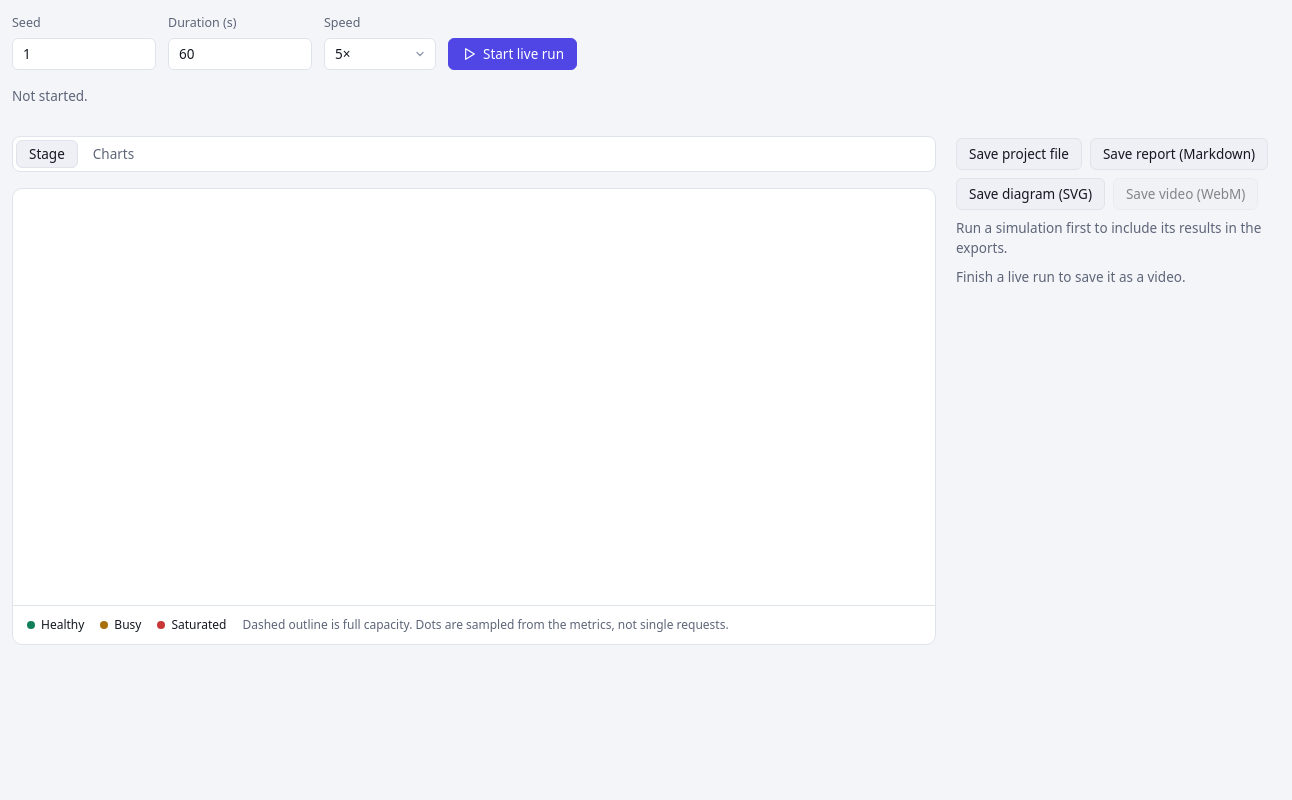
it: LivePanel › starts with the chosen options and charts incoming ticks
The image size is (1292, 800).
Click the button "Start live run": click(512, 54) 448,38 -> 577,70
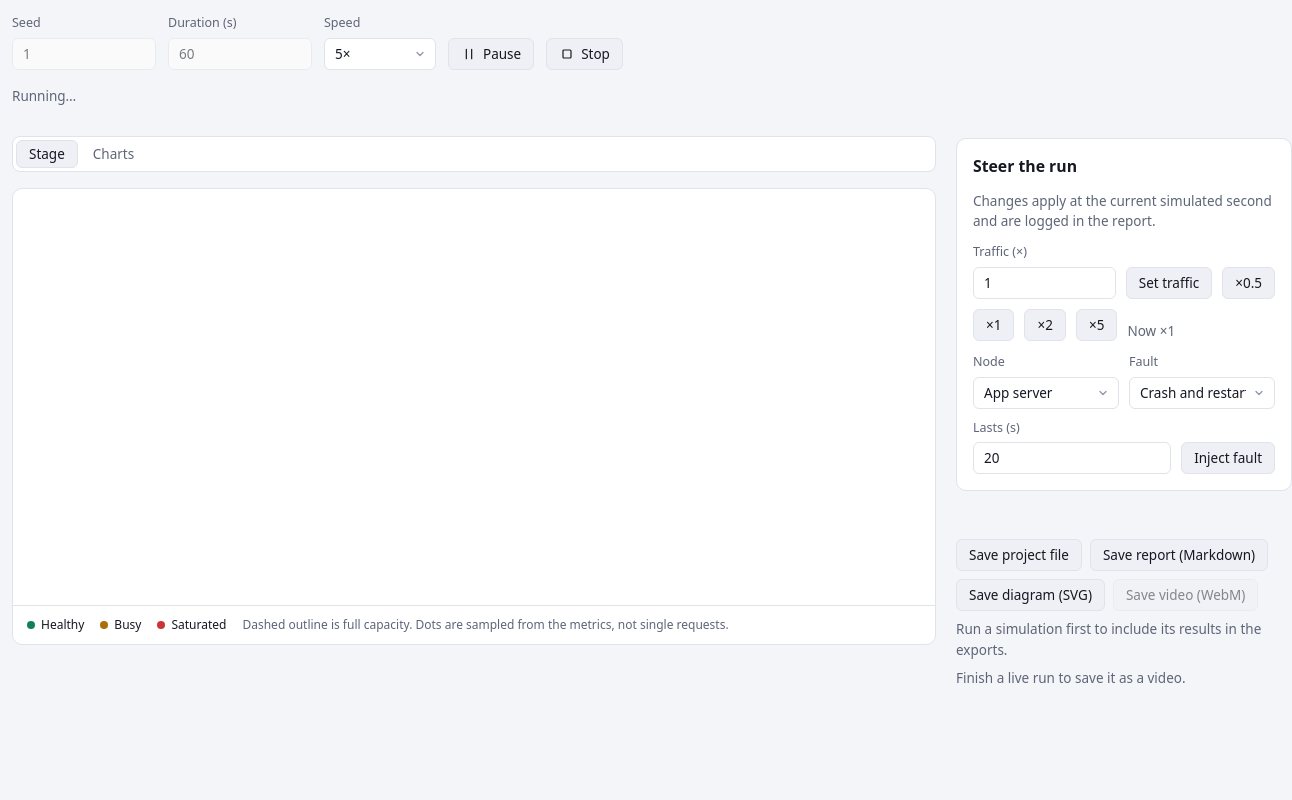
Click the button "Charts": click(114, 154) 80,140 -> 147,168
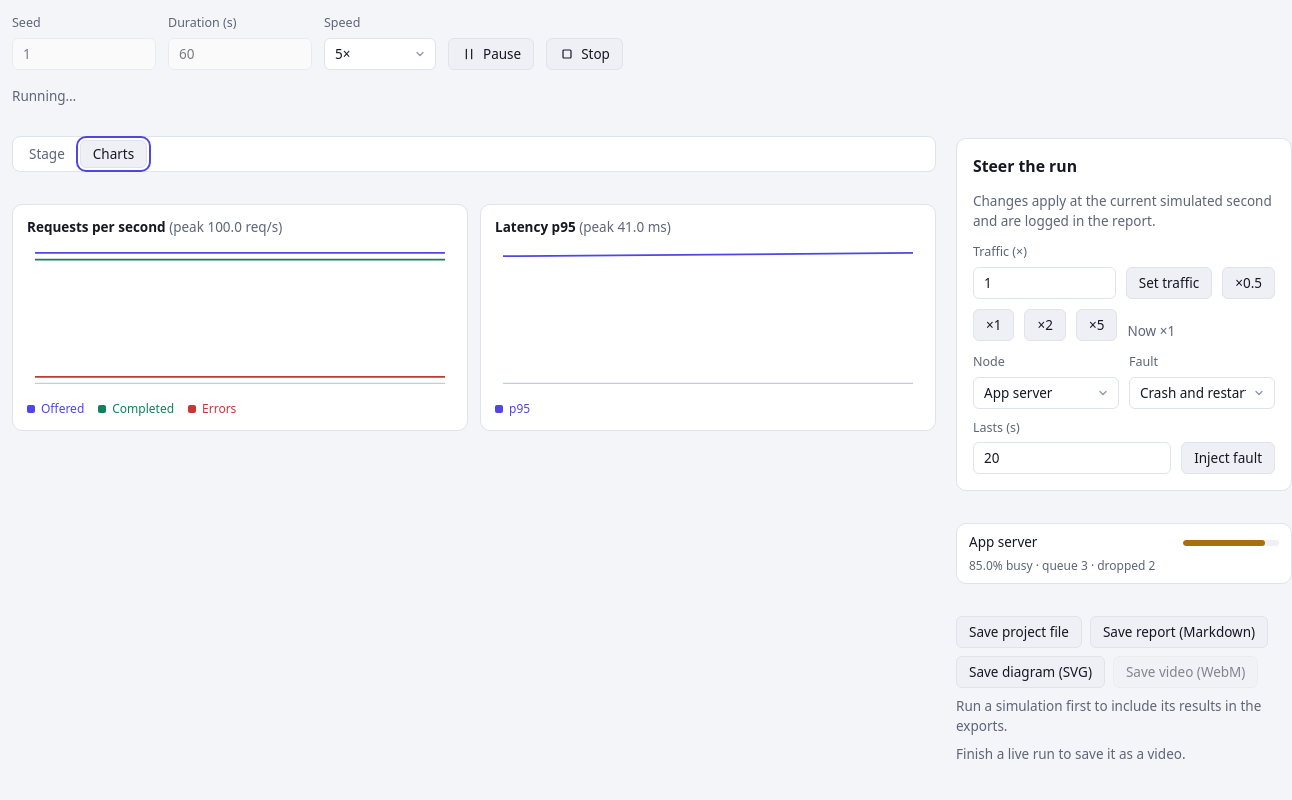
expect the text "Running…" is shown: met, box 12,87 -> 76,105
expect the picture named "Latency p95: p95 41.0 ms" is shown: met, box 495,245 -> 921,392
expect the text "85.0% busy · queue 3 · dropped 2" is shown: met, box 969,557 -> 1156,574
